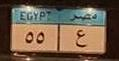5: (35, 30, 46, 45), (24, 30, 34, 46)
ain: (74, 29, 88, 49)
